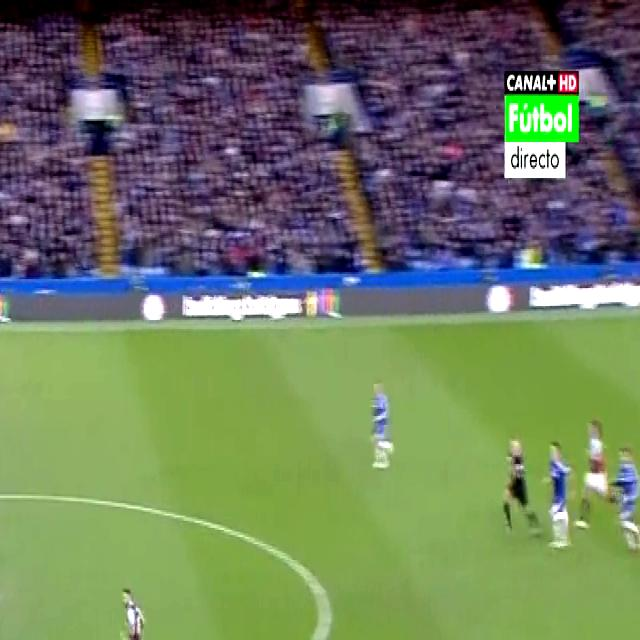referee: (497, 422, 534, 544)
soccer-player: (101, 569, 170, 640), (580, 401, 616, 534), (542, 430, 576, 558), (360, 365, 398, 479), (614, 434, 640, 562)
